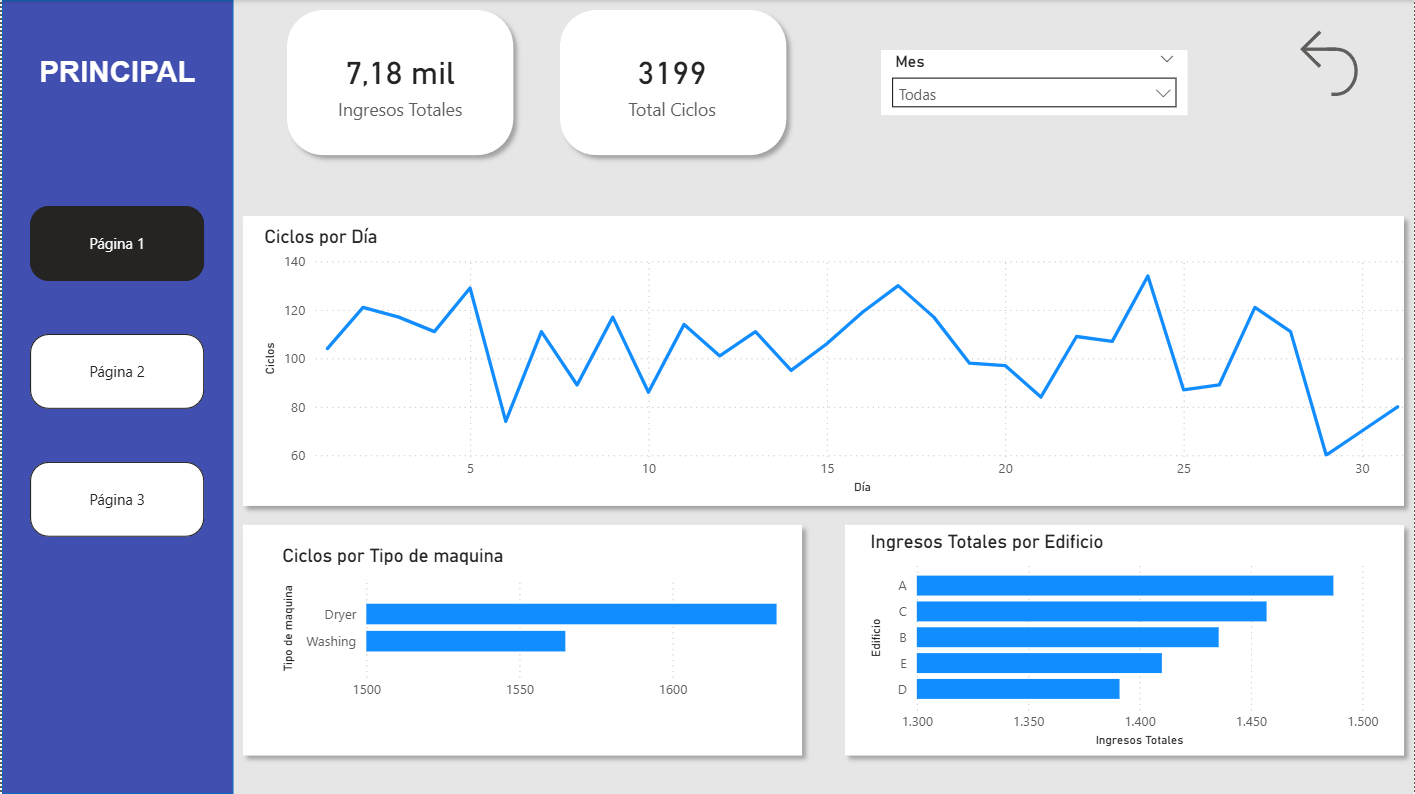

What the dashboard file says about the page in this screenshot:
{"tool":"powerbi","page":{"name":"Página 1","canvas":[1280,720],"ordinal":0},"visuals":[{"type":"shape","box":[0,0,1280.5,720],"z":0},{"type":"shape","box":[755.6,467.3,525,226.9],"z":1000},{"type":"shape","box":[209.7,467.3,525,226.9],"z":2000},{"type":"shape","box":[209.7,186.4,1070.8,280.9],"z":3000},{"type":"shape","box":[496.8,0,223.2,149.6],"z":4000},{"type":"shape","box":[249,0,223.2,149.6],"z":5000},{"type":"card","fields":{"Values":["public usage_cycles.Ingresos Totales"]},"box":[266.2,4.9,188.9,139.8],"z":6000},{"type":"card","fields":{"Values":["public usage_cycles.Total Ciclos"]},"box":[522.5,4.9,170.5,139.8],"z":7000},{"type":"lineChart","fields":{"Category":["public usage_cycles.Fecha.Variación.Jerarquía de fechas.Día"],"Y":["public usage_cycles.Total Ciclos"]},"box":[233,203.6,1047.5,247.8],"z":8000},{"type":"barChart","fields":{"Category":["public laundries.building"],"Y":["public usage_cycles.Ingresos Totales"]},"box":[782.6,480.8,471,201.2],"z":9000},{"type":"barChart","fields":{"Category":["public machines.machine_type"],"Y":["public usage_cycles.Total Ciclos"]},"box":[249,493.1,471,149.6],"z":10000},{"type":"shape","box":[0,0,209.7,720],"z":11000},{"type":"slicer","fields":{"Values":["public usage_cycles.Fecha.Variación.Jerarquía de fechas.Mes"]},"box":[797.3,45.4,278.4,58.9],"z":12000},{"type":"actionButton","box":[1166.5,19.6,76,74.8],"z":13000},{"type":"pageNavigator","box":[25.8,186.4,158.2,300.5],"z":14000},{"type":"textbox","box":[0,45.4,209.7,49.1],"z":15000}]}

Visuals, with their boxes on the page's 1280x720 design canvas (x1, y1, x2, y2). These are canvas units, not pixel positions in the 1415x794 screenshot, which may show the page scaled, cropped or inside an application window:
shape: x1=0 y1=0 x2=1280 y2=720
shape: x1=756 y1=467 x2=1281 y2=694
shape: x1=210 y1=467 x2=735 y2=694
shape: x1=210 y1=186 x2=1280 y2=467
shape: x1=497 y1=0 x2=720 y2=150
shape: x1=249 y1=0 x2=472 y2=150
card - public usage_cycles.Ingresos Totales: x1=266 y1=5 x2=455 y2=145
card - public usage_cycles.Total Ciclos: x1=522 y1=5 x2=693 y2=145
lineChart - public usage_cycles.Fecha.Variación.Jerarquía de fechas.Día x public usage_cycles.Total Ciclos: x1=233 y1=204 x2=1280 y2=451
barChart - public laundries.building x public usage_cycles.Ingresos Totales: x1=783 y1=481 x2=1254 y2=682
barChart - public machines.machine_type x public usage_cycles.Total Ciclos: x1=249 y1=493 x2=720 y2=643
shape: x1=0 y1=0 x2=210 y2=720
slicer - public usage_cycles.Fecha.Variación.Jerarquía de fechas.Mes: x1=797 y1=45 x2=1076 y2=104
actionButton: x1=1166 y1=20 x2=1242 y2=94
pageNavigator: x1=26 y1=186 x2=184 y2=487
textbox: x1=0 y1=45 x2=210 y2=94
